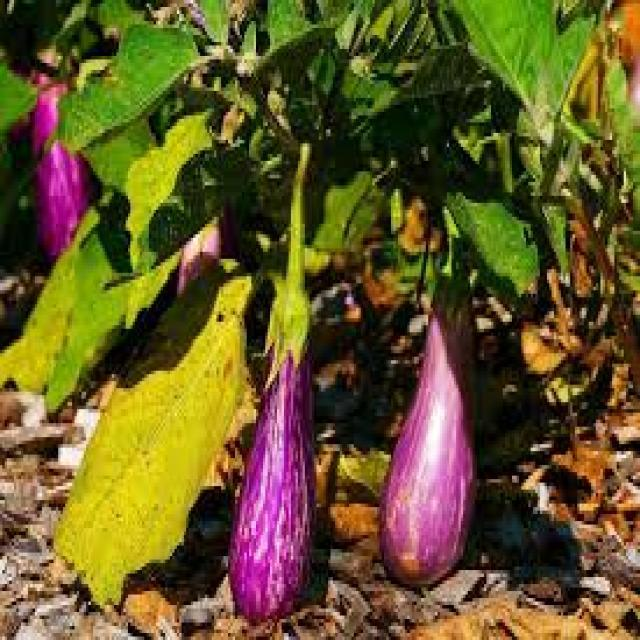Eggplant: (378, 226, 486, 588), (231, 242, 321, 624), (32, 47, 86, 280)
